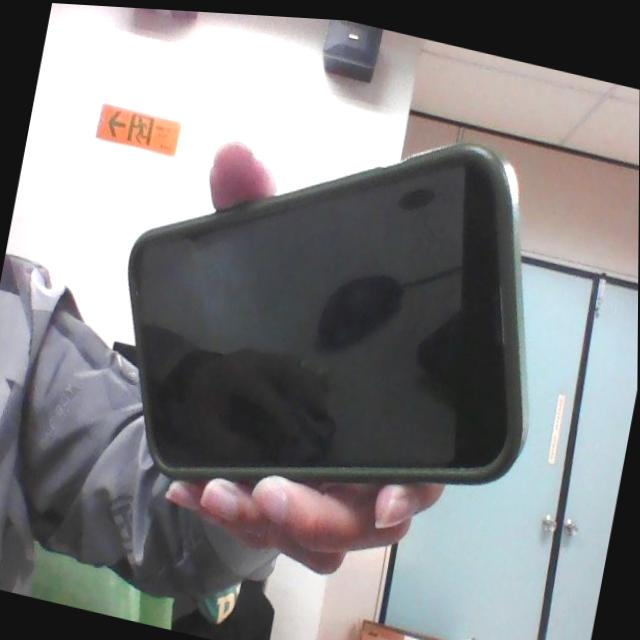Smartphone: (114, 109, 550, 508)
